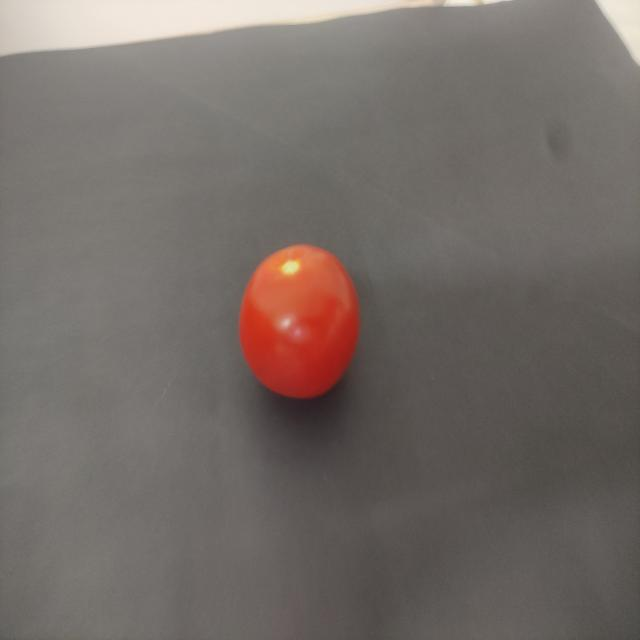kirmizi: (223, 238, 371, 407)
